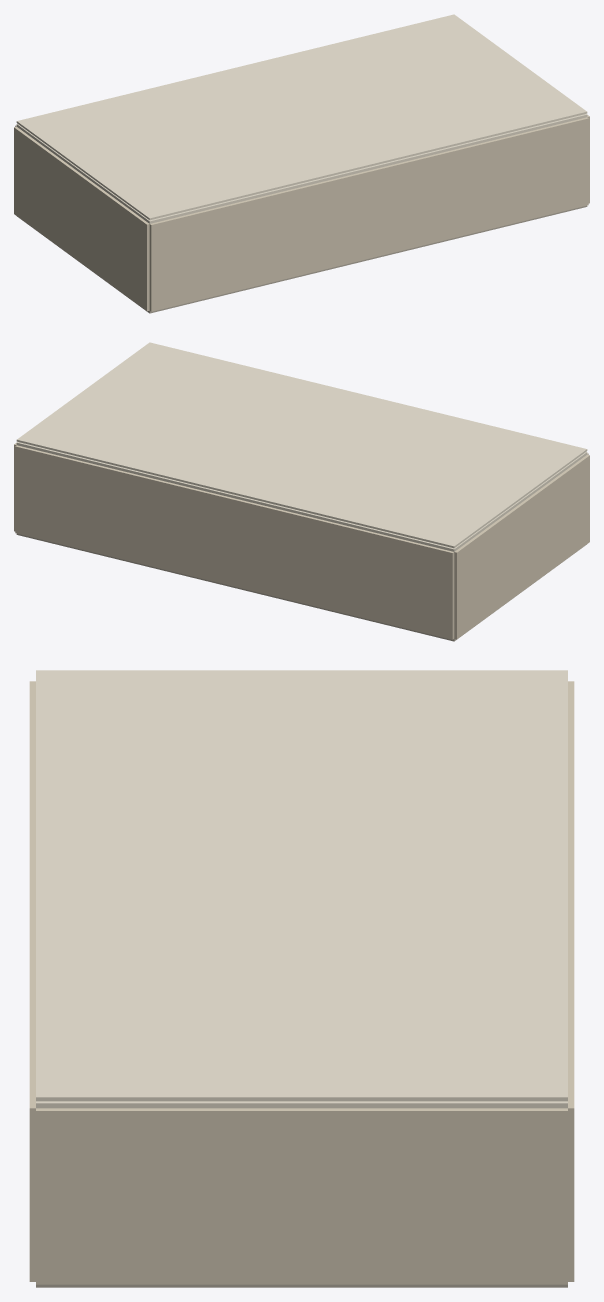
File: grand-mayfull-2f.glb
The picture shows the model from 3 angles, top to bottom: view 1: azimuth 30°, elevation 25°; view 2: azimuth 150°, elevation 25°; view 3: azimuth 270°, elevation 25°; orthographic projection. The views are drawn at different scales.
Visible parts, largest first — view 1: Ceiling__Wedding_Ceiling_cream.001, Wall_Entry__Wedding_Ivory_panels.002, Wall_End_West__Wedding_Ivory_panels.002, Wall_Entry__Wedding_Ceiling_cream.001, Floor__Wedding_Oatmeal_carpet.001, Wall_End_West__Wedding_Ceiling_cream.001; view 2: Ceiling__Wedding_Ceiling_cream.001, Wall_LED__Wedding_Ivory_panels.002, Wall_End_West__Wedding_Ivory_panels.002, Wall_LED__Wedding_Ceiling_cream.001, Floor__Wedding_Oatmeal_carpet.001, Wall_End_West__Wedding_Ceiling_cream.001; view 3: Ceiling__Wedding_Ceiling_cream.001, Wall_End_East__Wedding_Ivory_panels.002, Wall_End_East__Wedding_Ceiling_cream.001, Wall_Entry__Wedding_Ivory_panels.002, Wall_LED__Wedding_Ivory_panels.002, Floor__Wedding_Oatmeal_carpet.001.
Boxes of the visible parts, <box> form: Ceiling__Wedding_Ceiling_cream.001: <box>16,14,587,220</box>; Wall_Entry__Wedding_Ivory_panels.002: <box>149,117,588,311</box>; Wall_End_West__Wedding_Ivory_panels.002: <box>14,126,149,311</box>; Wall_Entry__Wedding_Ceiling_cream.001: <box>144,114,586,223</box>; Floor__Wedding_Oatmeal_carpet.001: <box>17,205,587,313</box>; Wall_End_West__Wedding_Ceiling_cream.001: <box>16,124,158,223</box>; Ceiling__Wedding_Ceiling_cream.001: <box>16,342,587,548</box>; Wall_LED__Wedding_Ivory_panels.002: <box>15,445,454,639</box>; Wall_End_West__Wedding_Ivory_panels.002: <box>454,454,589,639</box>; Wall_LED__Wedding_Ceiling_cream.001: <box>16,442,459,551</box>; Floor__Wedding_Oatmeal_carpet.001: <box>16,533,586,641</box>; Wall_End_West__Wedding_Ceiling_cream.001: <box>445,452,587,551</box>; Ceiling__Wedding_Ceiling_cream.001: <box>36,670,567,1101</box>; Wall_End_East__Wedding_Ivory_panels.002: <box>36,1108,567,1284</box>; Wall_End_East__Wedding_Ceiling_cream.001: <box>36,1101,567,1108</box>; Wall_Entry__Wedding_Ivory_panels.002: <box>29,681,35,1281</box>; Wall_LED__Wedding_Ivory_panels.002: <box>568,681,574,1281</box>; Floor__Wedding_Oatmeal_carpet.001: <box>36,1284,567,1287</box>.
Size of the model in its own units: 38.48 by 7.9 by 20.48.
